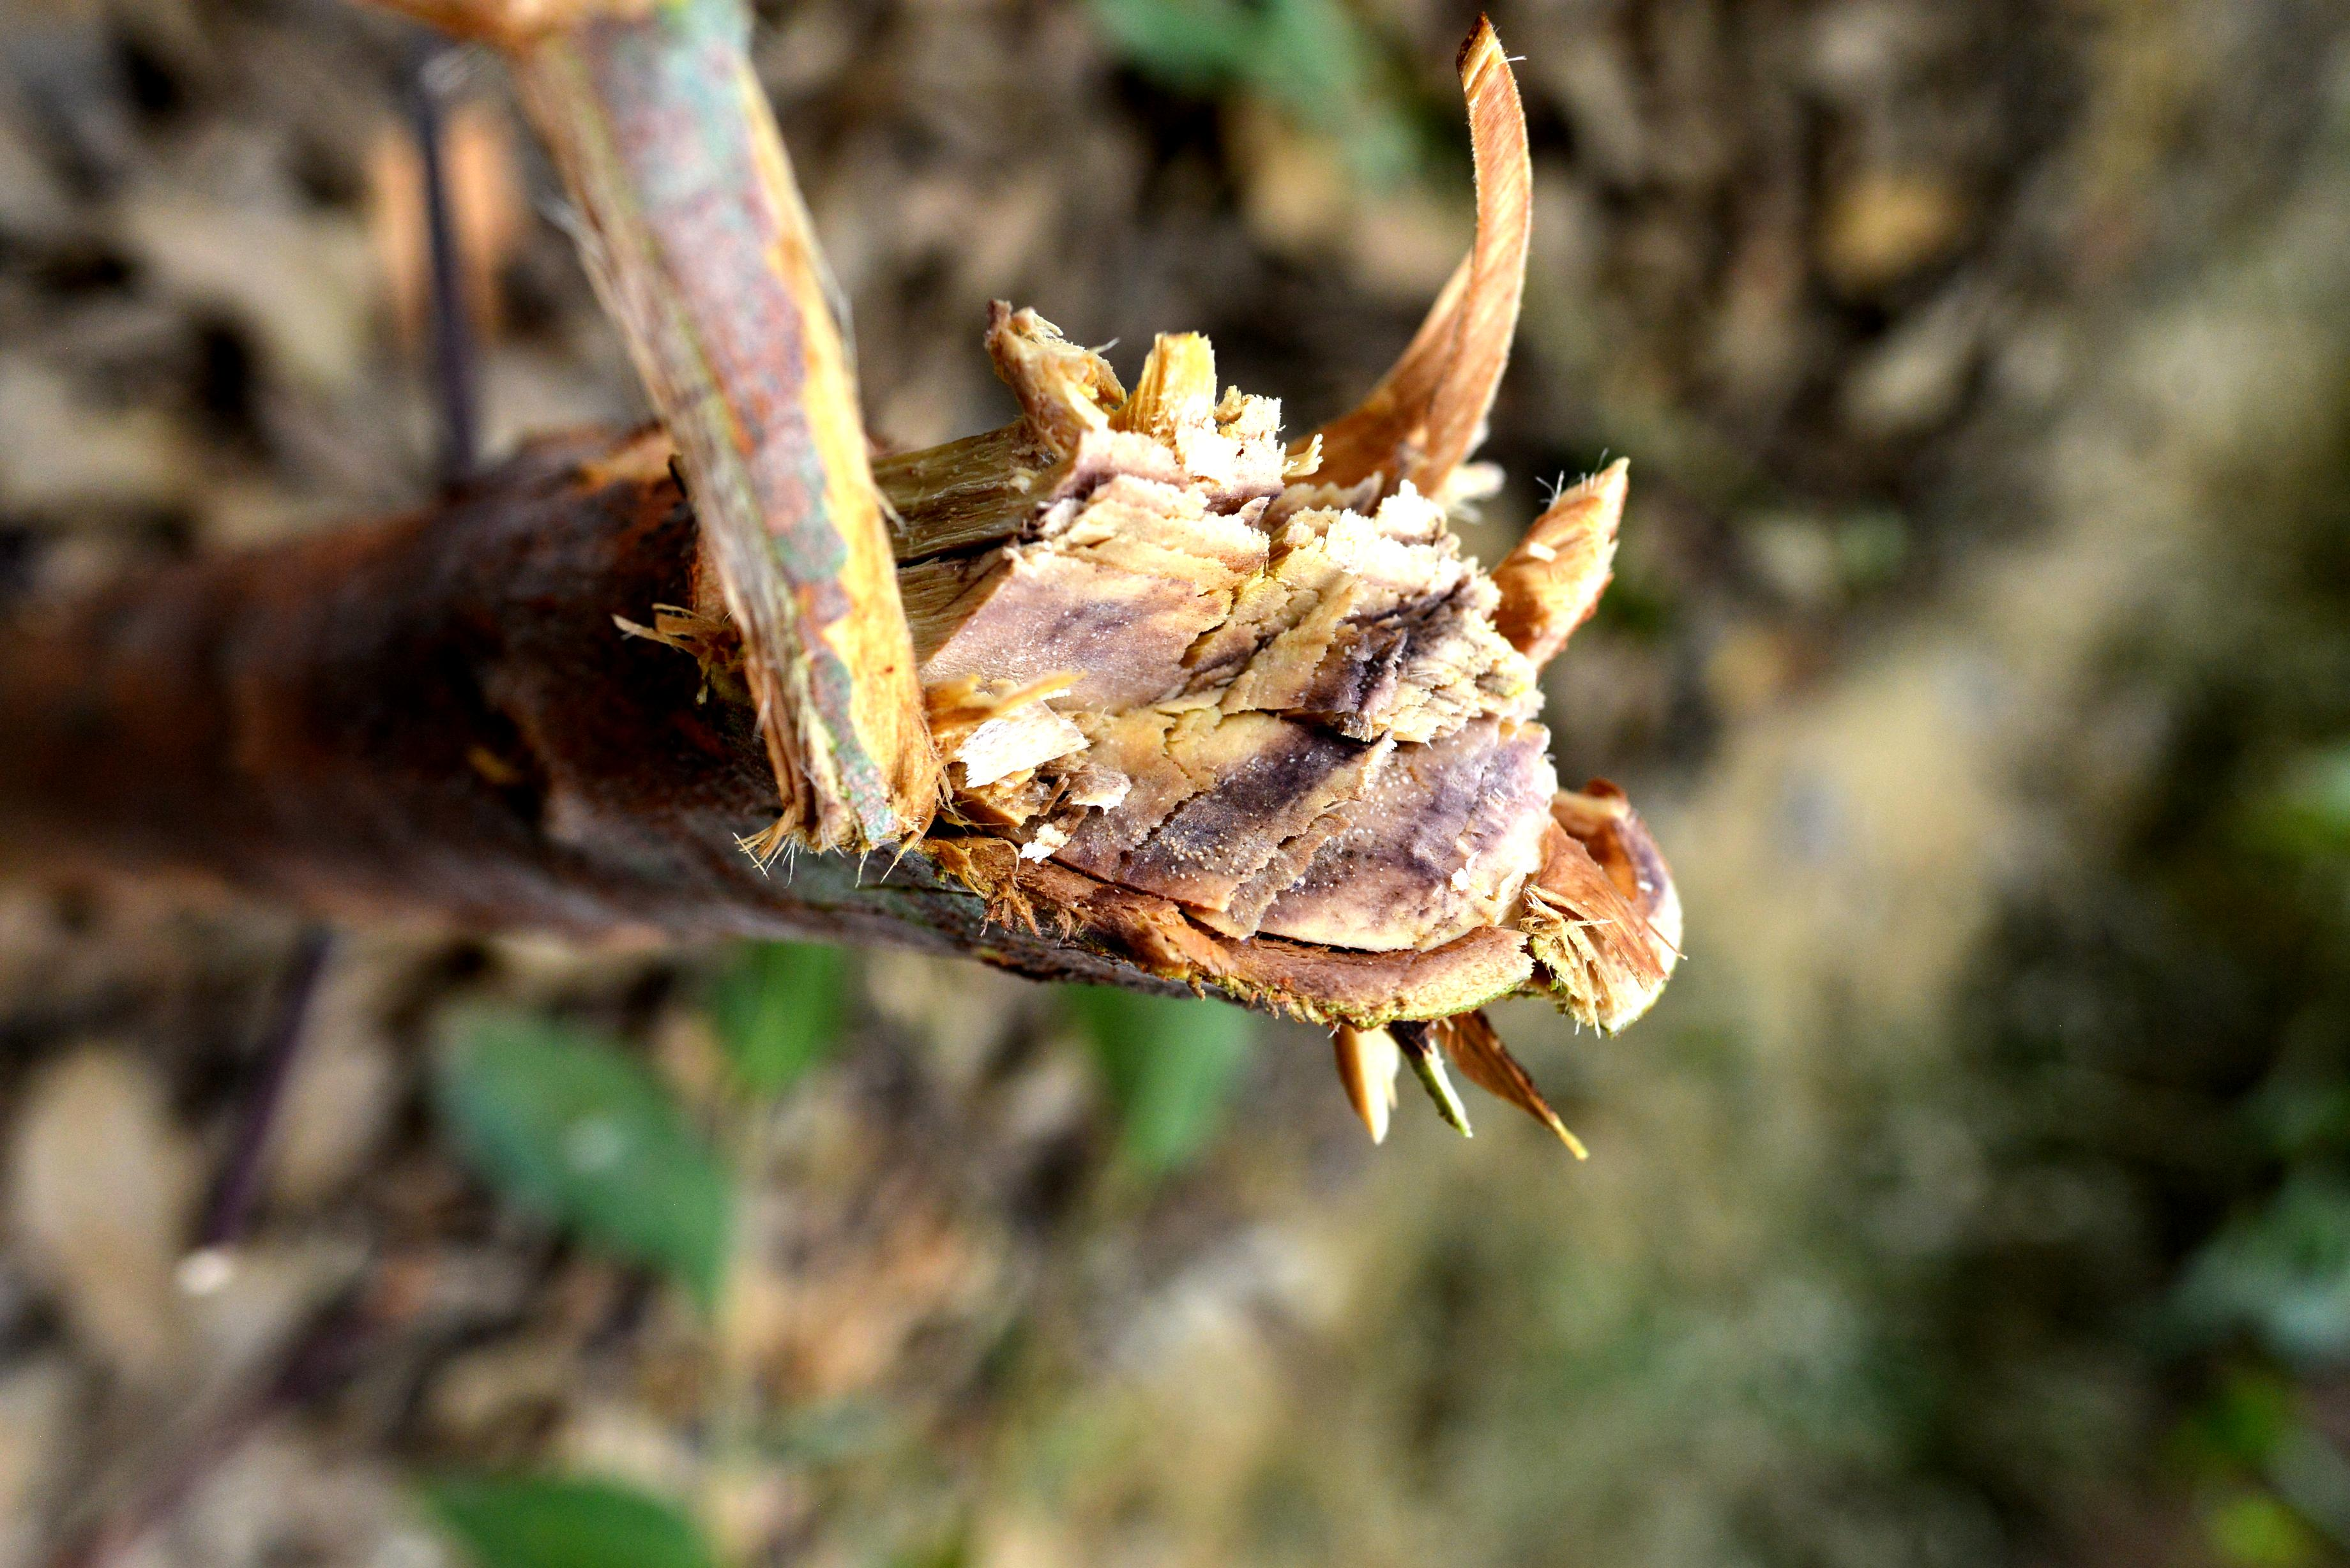Ralstonia: (1106, 787, 1412, 924), (964, 584, 1132, 693), (1267, 609, 1419, 724), (1148, 366, 1211, 444)
